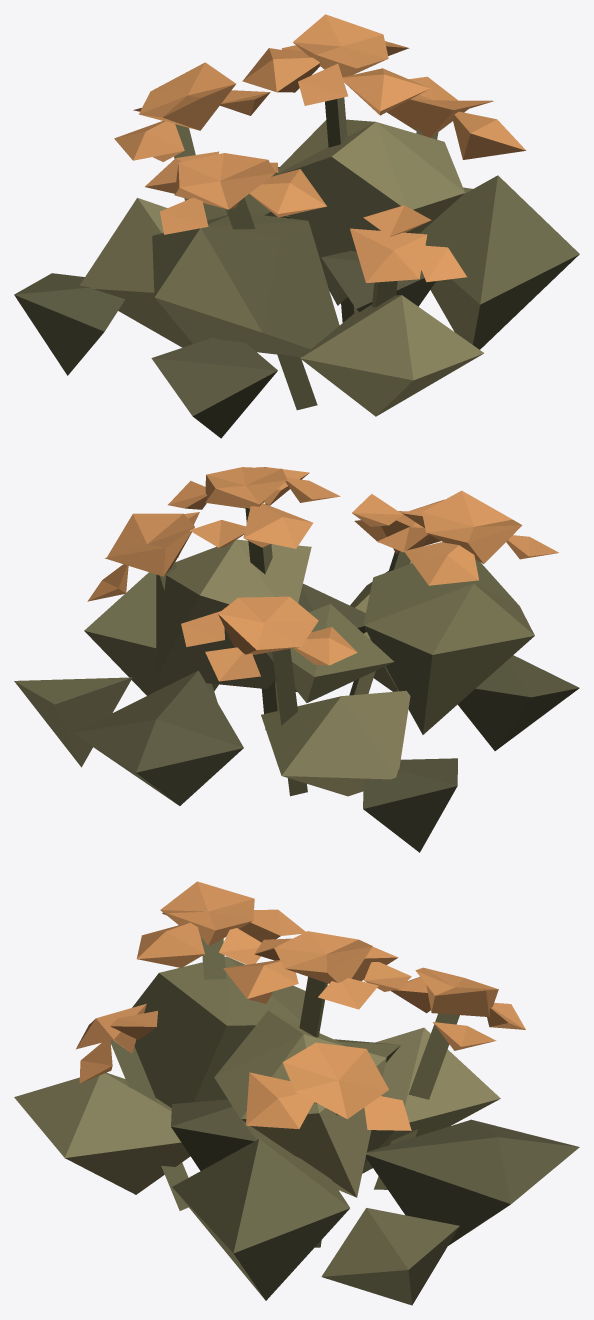
Rendered from SM_Env_Flowers_05.fbx.
The picture shows the model from 3 angles, top to bottom: view 1: azimuth 30°, elevation 25°; view 2: azimuth 150°, elevation 25°; view 3: azimuth 270°, elevation 25°; orthographic projection. The views are drawn at different scales.
Visible parts, largest first — view 1: SM_Env_Flowers_05; view 2: SM_Env_Flowers_05; view 3: SM_Env_Flowers_05.
Part boxes in pixels (x1,y1,x2,y2): SM_Env_Flowers_05: (14, 14, 579, 438); SM_Env_Flowers_05: (14, 467, 579, 852); SM_Env_Flowers_05: (14, 881, 579, 1305).
Bounding box in the file's own units: 120 × 77.59 × 127.
